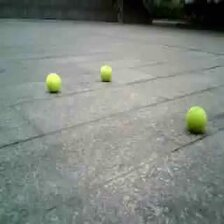tennis: (184, 107, 206, 131), (45, 73, 61, 91), (99, 65, 112, 80)
